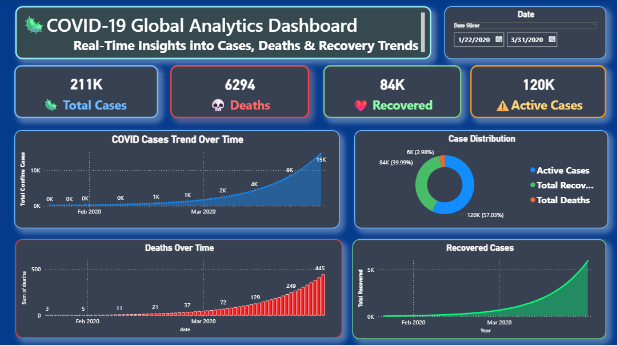

Layout of this report page (visuals, bound fields, positions):
{"tool":"powerbi","page":{"name":"Page 1","canvas":[1280,720],"ordinal":0},"visuals":[{"type":"card","fields":{"Values":["covid19_sample_dataset.Total Cases"]},"box":[32.9,137.8,296.1,109],"z":0},{"type":"card","fields":{"Values":["covid19_sample_dataset.Total Deaths"]},"box":[353.7,137.8,285.8,109],"z":1000},{"type":"card","fields":{"Values":["covid19_sample_dataset.Total Recovered"]},"box":[668.3,137.8,283.8,109],"z":2000},{"type":"card","fields":{"Values":["covid19_sample_dataset.Active Cases"]},"box":[970.6,137.8,279.7,109],"z":3000},{"type":"areaChart","title":"COVID Cases Trend Over Time","fields":{"Category":["covid19_sample_dataset.date"],"Y":["Sum(covid19_sample_dataset.confirmed_cases)"]},"box":[33.3,271.1,668.9,202.2],"z":4000},{"type":"clusteredColumnChart","title":"Deaths Over Time","fields":{"Y":["Sum(covid19_sample_dataset.deaths)"],"Category":["covid19_sample_dataset.date"]},"box":[35,495.6,672.4,203.6],"z":5000},{"type":"donutChart","title":"Case Distribution","fields":{"Y":["covid19_sample_dataset.Active Cases","covid19_sample_dataset.Total Recovered","covid19_sample_dataset.Total Deaths"]},"box":[731.1,271.1,522.2,202.2],"z":6000},{"type":"stackedAreaChart","title":"Recovered Cases","fields":{"Category":["covid19_sample_dataset.date.Variation.Date Hierarchy.Year","covid19_sample_dataset.date.Variation.Date Hierarchy.Quarter","covid19_sample_dataset.date.Variation.Date Hierarchy.Month","covid19_sample_dataset.date.Variation.Date Hierarchy.Day"],"Y":["covid19_sample_dataset.Total Recovered"]},"box":[727.9,495.6,522.3,205.6],"z":7000},{"type":"slicer","title":"Date","fields":{"Values":["covid19_sample_dataset.date"]},"box":[917.1,16.5,333.1,109],"z":8000},{"type":"textbox","box":[35,16.5,855.4,109],"z":9000}]}

Visuals, with their boxes in screenshot pixels (x1, y1, x2, y2), scaled from the page's 1280x720 canvas onto the 617x346 screenshot:
card - covid19_sample_dataset.Total Cases: [16,66,159,119]
card - covid19_sample_dataset.Total Deaths: [170,66,308,119]
card - covid19_sample_dataset.Total Recovered: [322,66,459,119]
card - covid19_sample_dataset.Active Cases: [468,66,603,119]
"COVID Cases Trend Over Time" areaChart: [16,130,338,227]
"Deaths Over Time" clusteredColumnChart: [17,238,341,336]
"Case Distribution" donutChart: [352,130,604,227]
"Recovered Cases" stackedAreaChart: [351,238,603,337]
"Date" slicer: [442,8,603,60]
textbox: [17,8,429,60]
